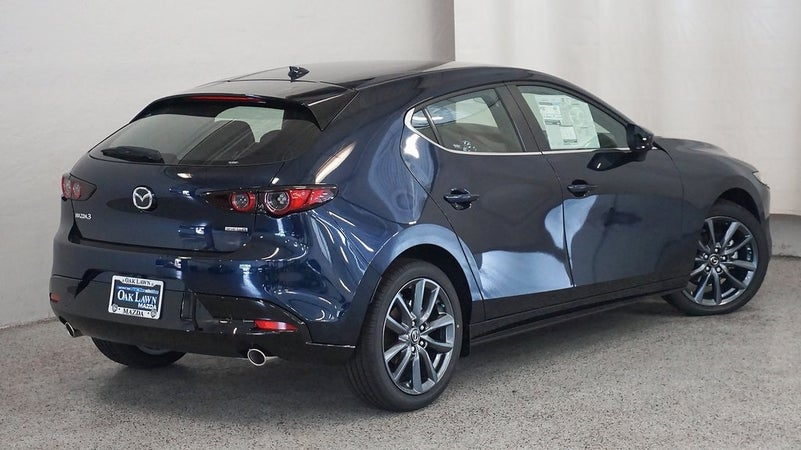Mazda3 Hatchback: (47, 58, 773, 414)
